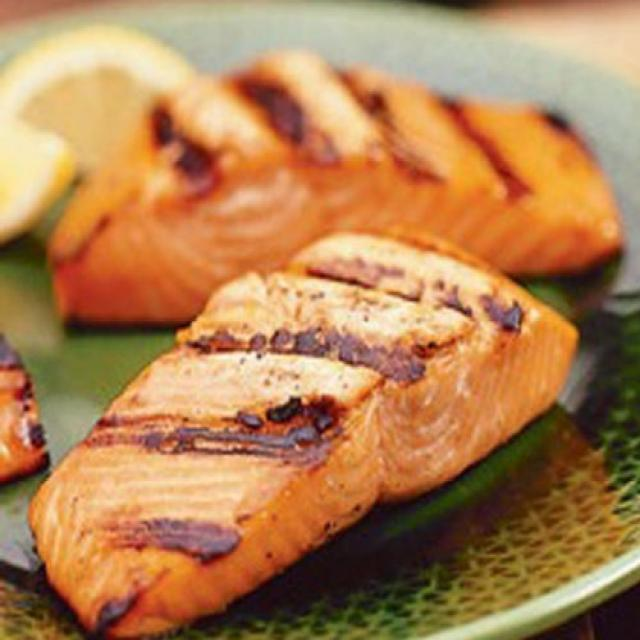熟制海鲜: (11, 34, 626, 621)
